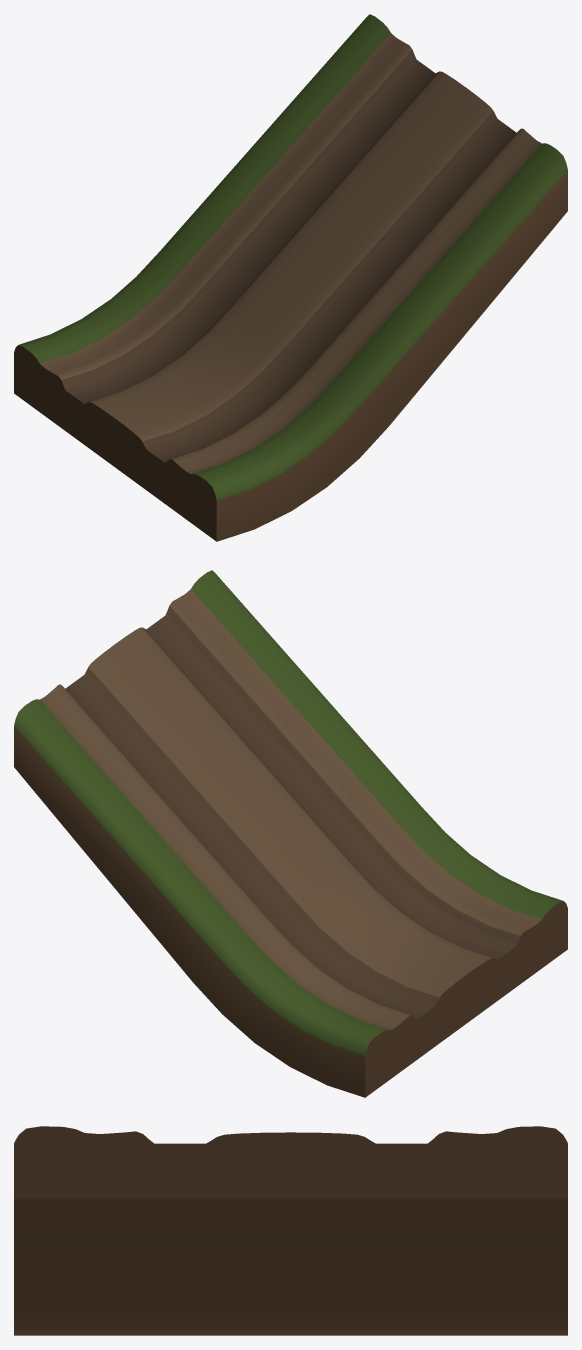
The picture shows the model from 3 angles, top to bottom: view 1: azimuth 30°, elevation 25°; view 2: azimuth 150°, elevation 25°; view 3: azimuth 270°, elevation 25°; orthographic projection. The views are drawn at different scales.
Parts seen in each view (by area): view 1: d3o; view 2: d3o; view 3: d3o.
Boxes of the visible parts, x1,y1,x2,y2 form: d3o: (14,14,567,541); d3o: (14,570,567,1097); d3o: (14,1126,567,1335).
Bounding box in the file's own units: 9 × 7.31 × 9.
